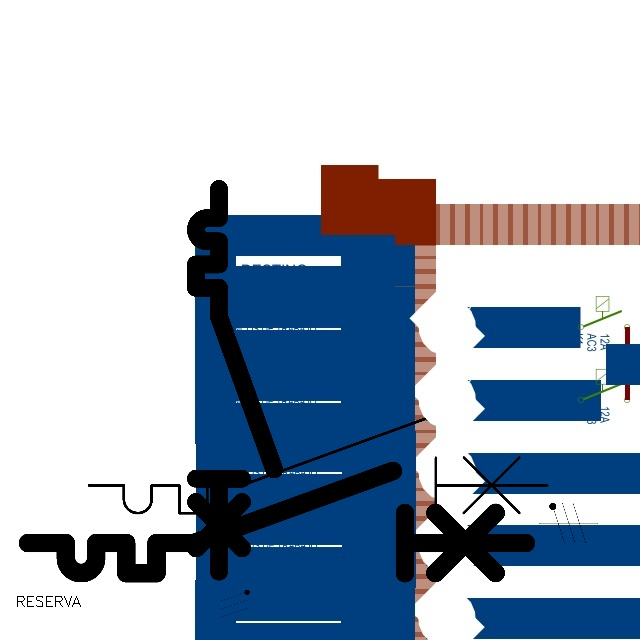interruptor_termomagnetico: (15, 458, 539, 586), (77, 407, 559, 525), (186, 179, 284, 582)
